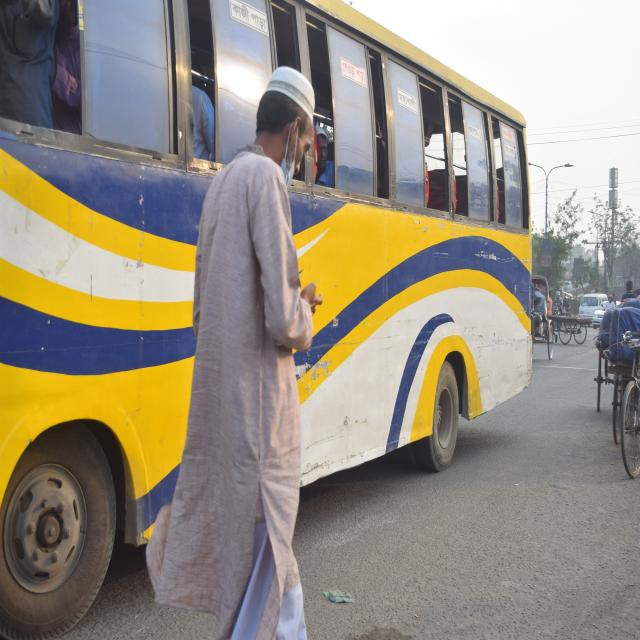bus: (0, 0, 539, 640)
car: (580, 286, 606, 330)
